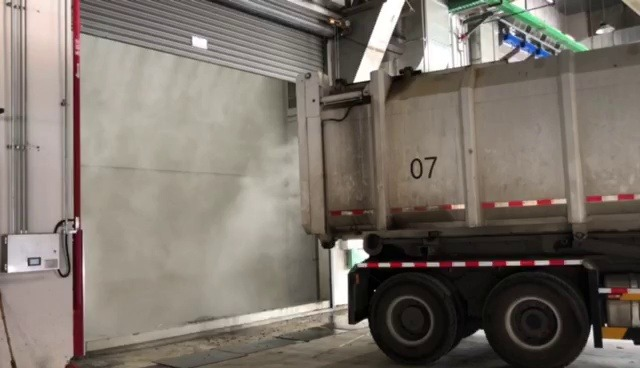dust: (82, 140, 298, 315)
truck: (288, 30, 640, 368)
